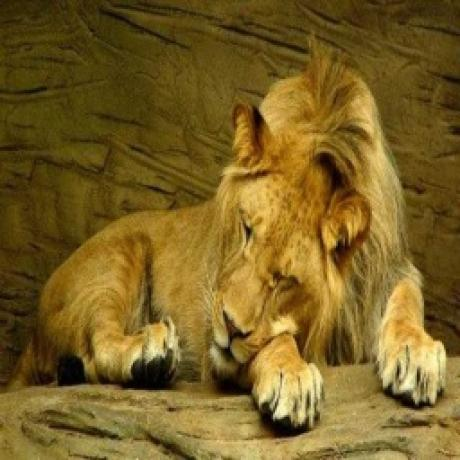Lion: (10, 59, 452, 436)
